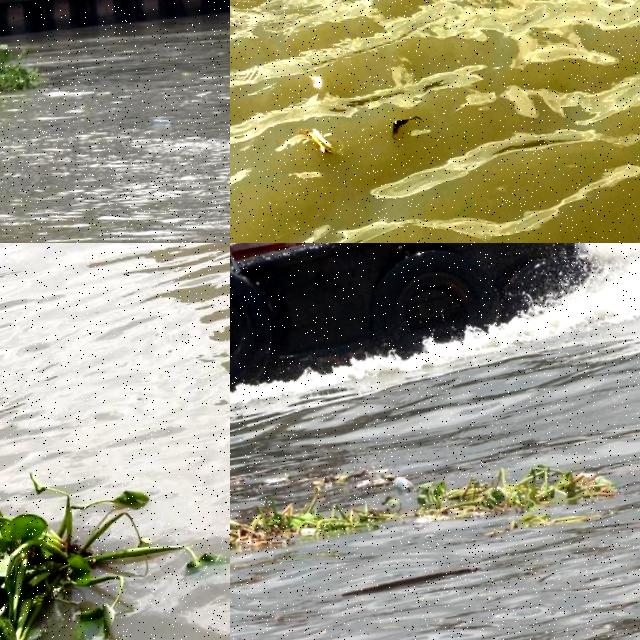water-hyacinth: (1, 452, 208, 640), (408, 449, 621, 532), (231, 476, 400, 563), (1, 39, 52, 101), (231, 471, 256, 506)
